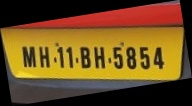character: (22, 45, 36, 68), (138, 45, 150, 70), (125, 46, 137, 70), (79, 46, 91, 69), (93, 46, 105, 69), (112, 46, 123, 70), (38, 46, 49, 69), (153, 46, 163, 70), (65, 45, 73, 69), (56, 45, 64, 68)
